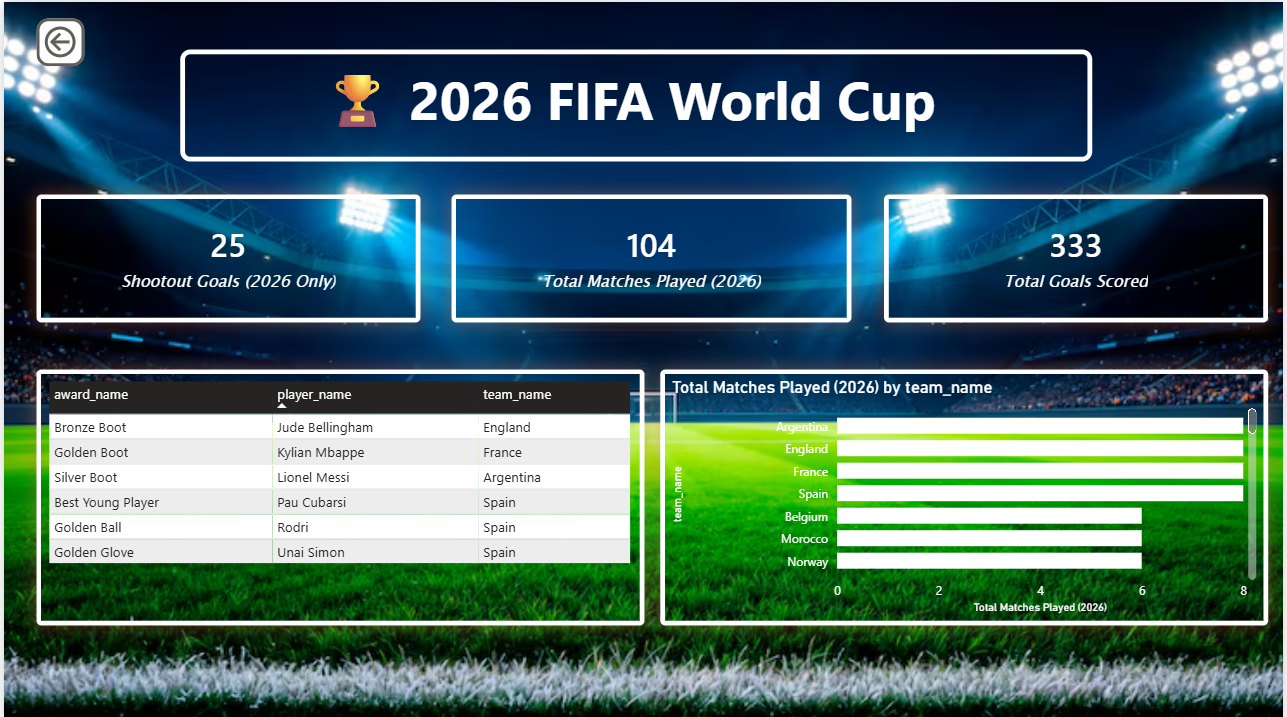

The page's visual inventory and layout, read from the dashboard file:
{"tool":"powerbi","page":{"name":"2026 Spotlight","canvas":[1280,720],"ordinal":5},"visuals":[{"type":"tableEx","fields":{"Values":["fact_awards.award_name","fact_awards.player_name","dim_team.team_name"]},"box":[32,368,608,256],"z":0},{"type":"cardVisual","fields":{"Data":["Measure.Shootout Goals (2026 Only)"]},"box":[32,192,384,128],"z":1000},{"type":"cardVisual","fields":{"Data":["Measure.Total Matches Played (2026)"]},"box":[448,192,400,128],"z":2000},{"type":"cardVisual","fields":{"Data":["Measure.Total Goals Scored"]},"box":[880,192,384,128],"z":3000},{"type":"textbox","box":[176,48,912,112],"z":4000},{"type":"clusteredBarChart","fields":{"Category":["dim_team.team_name"],"Y":["Measure.Total Matches Played (2026)"]},"box":[656,368,608,256],"z":5000},{"type":"actionButton","box":[32,16,48,48],"z":5001}]}

Visuals, with their boxes in screenshot pixels (x1, y1, x2, y2), scaled from the page's 1280x720 canvas onto the 1287x717 screenshot:
tableEx - fact_awards.award_name x fact_awards.player_name: <region>32, 366, 644, 621</region>
cardVisual - Measure.Shootout Goals (2026 Only): <region>32, 191, 418, 319</region>
cardVisual - Measure.Total Matches Played (2026): <region>450, 191, 853, 319</region>
cardVisual - Measure.Total Goals Scored: <region>885, 191, 1271, 319</region>
textbox: <region>177, 48, 1094, 159</region>
clusteredBarChart - dim_team.team_name x Measure.Total Matches Played (2026): <region>660, 366, 1271, 621</region>
actionButton: <region>32, 16, 80, 64</region>
